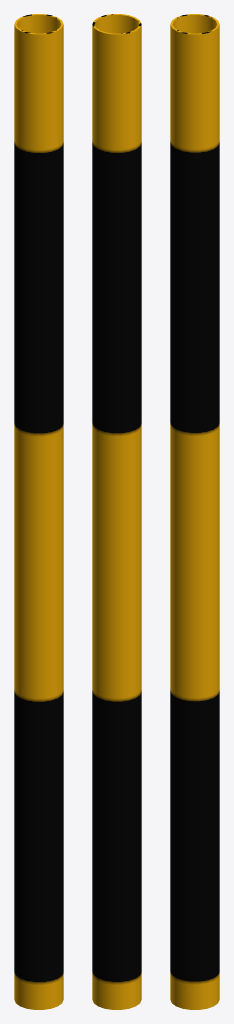
The picture shows the model from 3 angles, left to right: view 1: azimuth 90°, elevation 25°; view 2: azimuth 150°, elevation 25°; view 3: azimuth 270°, elevation 25°; orthographic projection.
Visible parts, largest first — view 1: pasted__Gangguan1; view 2: pasted__Gangguan1; view 3: pasted__Gangguan1.
Part boxes in pixels (left/top/right/bottom): pasted__Gangguan1: left=14, top=14, right=63, bottom=1009; pasted__Gangguan1: left=92, top=14, right=141, bottom=1009; pasted__Gangguan1: left=170, top=14, right=219, bottom=1009.
Bounding box in the file's own units: 4.18 × 92.81 × 4.25.
